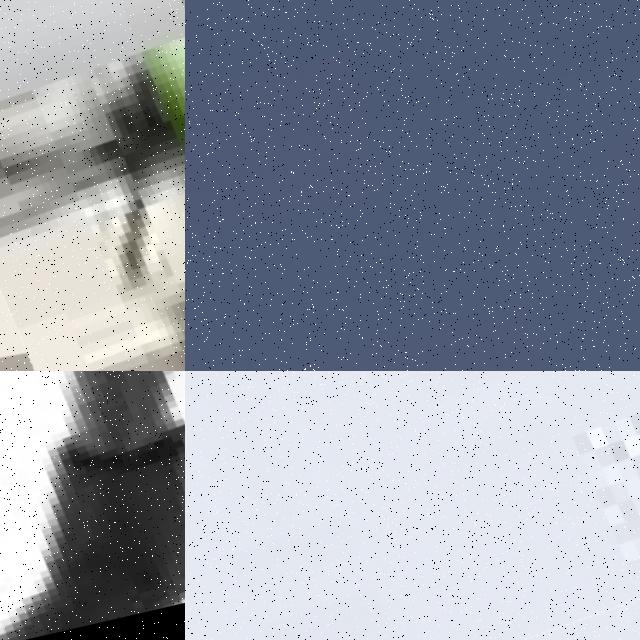0: (0, 0, 185, 371)
drone: (185, 371, 640, 640), (0, 371, 185, 640)
